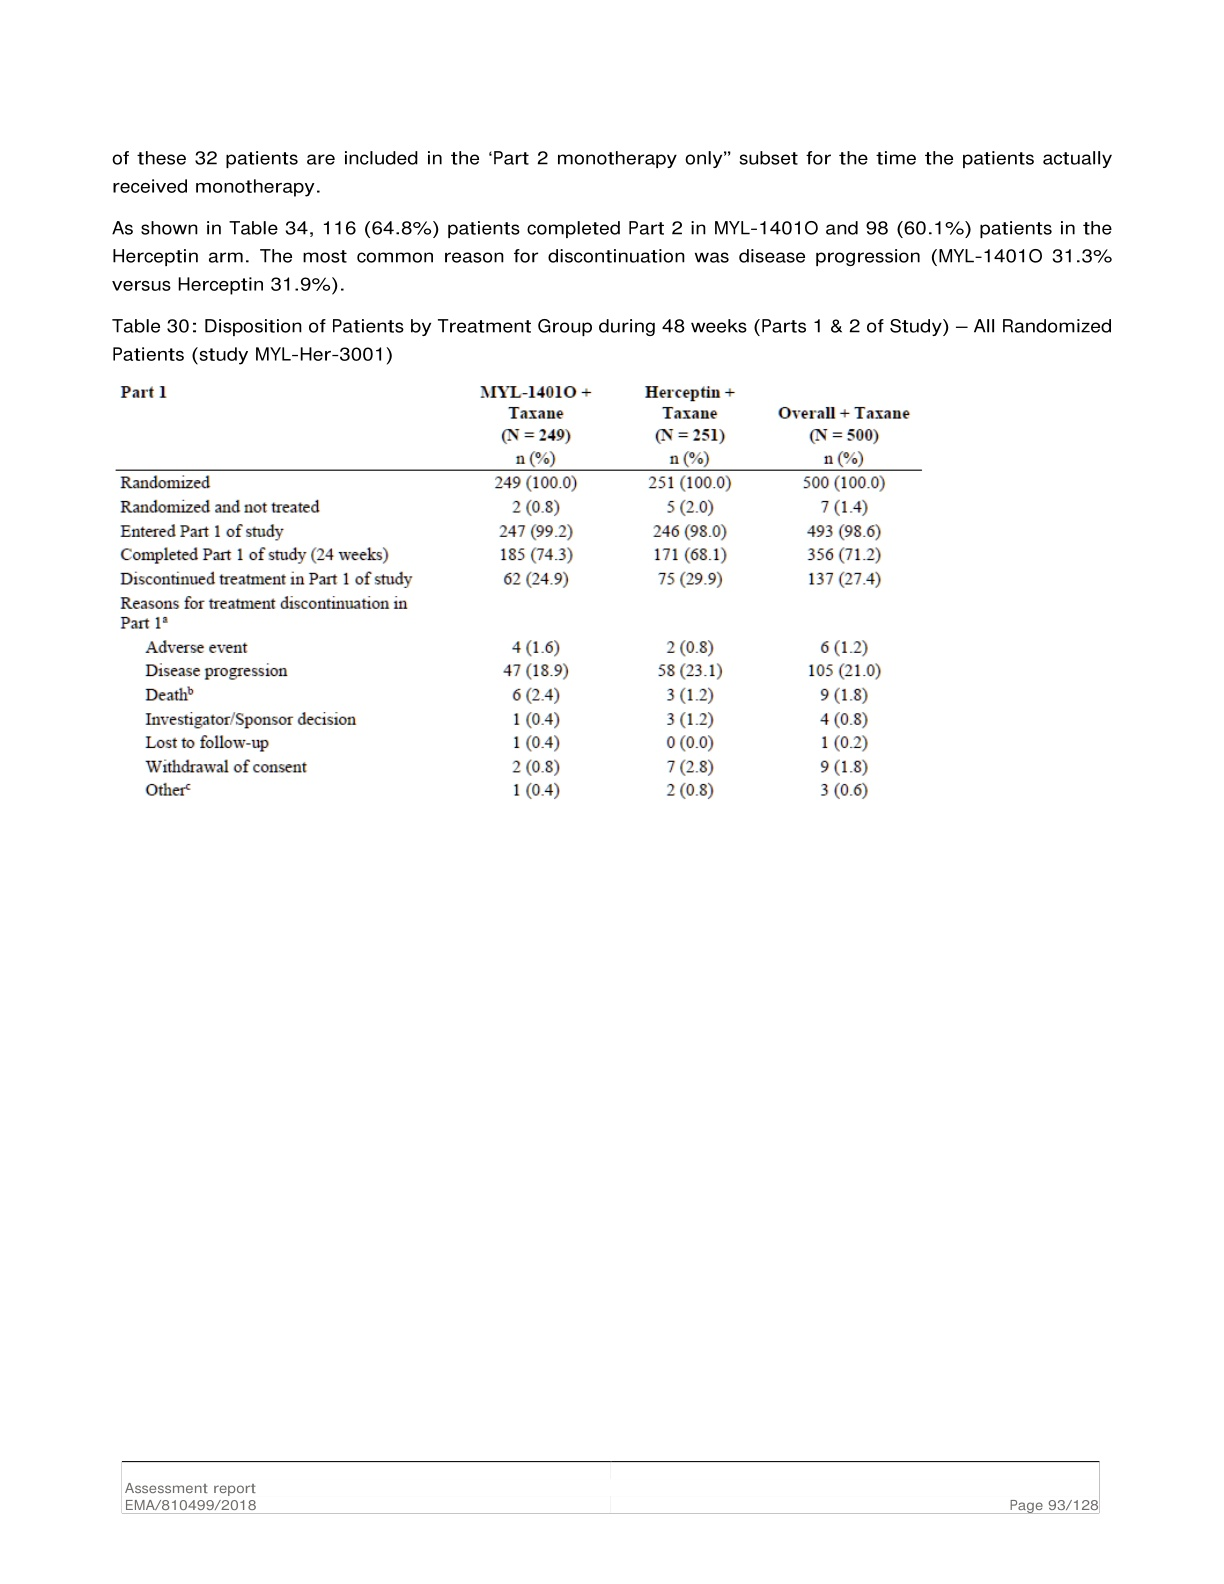partial_lined_merged_cells: (113, 377, 924, 804)
